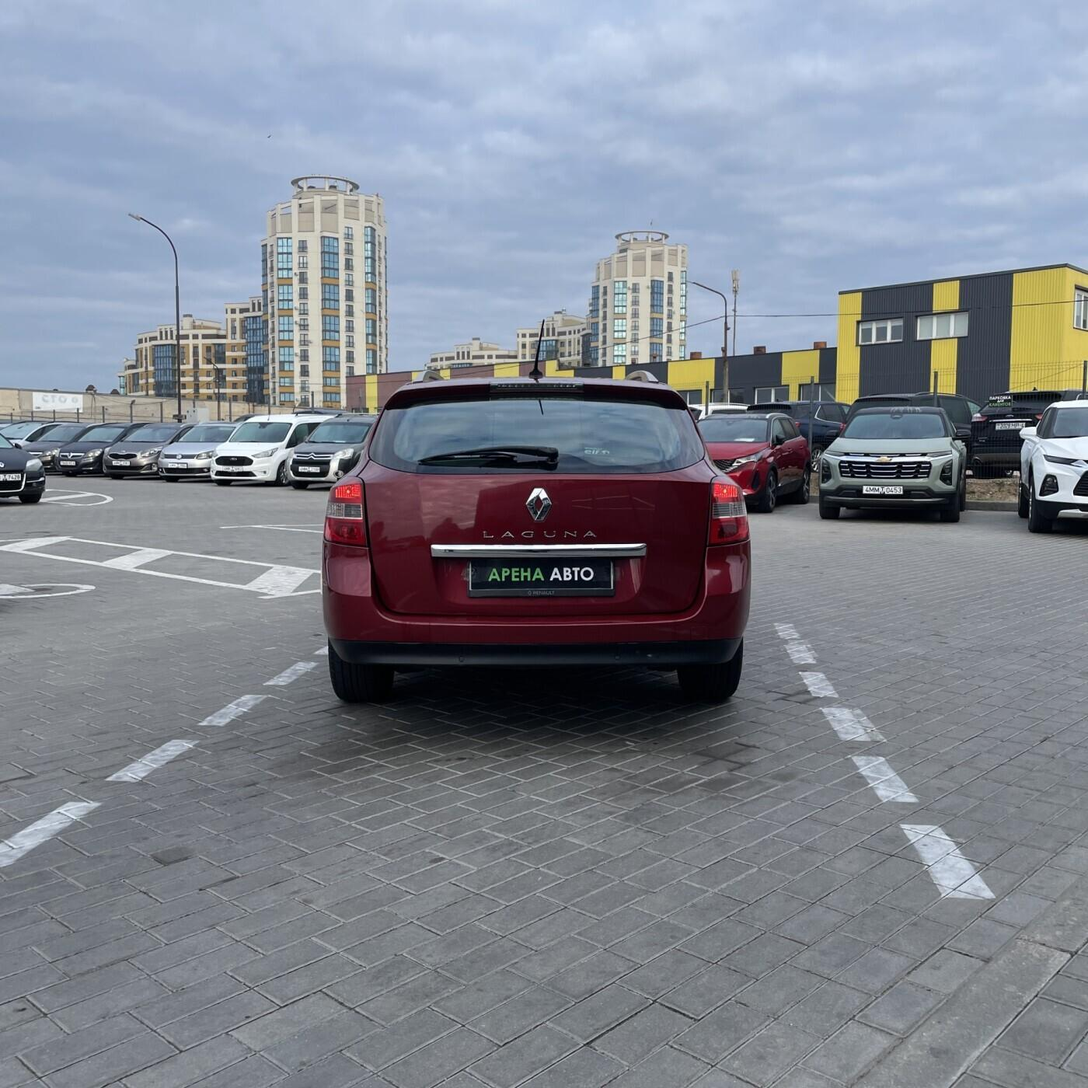Laguna_2007-2011: (323, 378, 751, 703)
